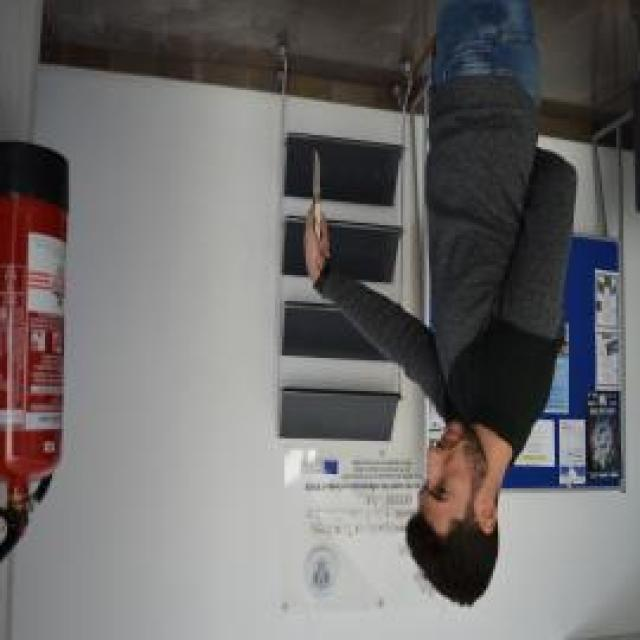knife: (311, 140, 327, 256)
